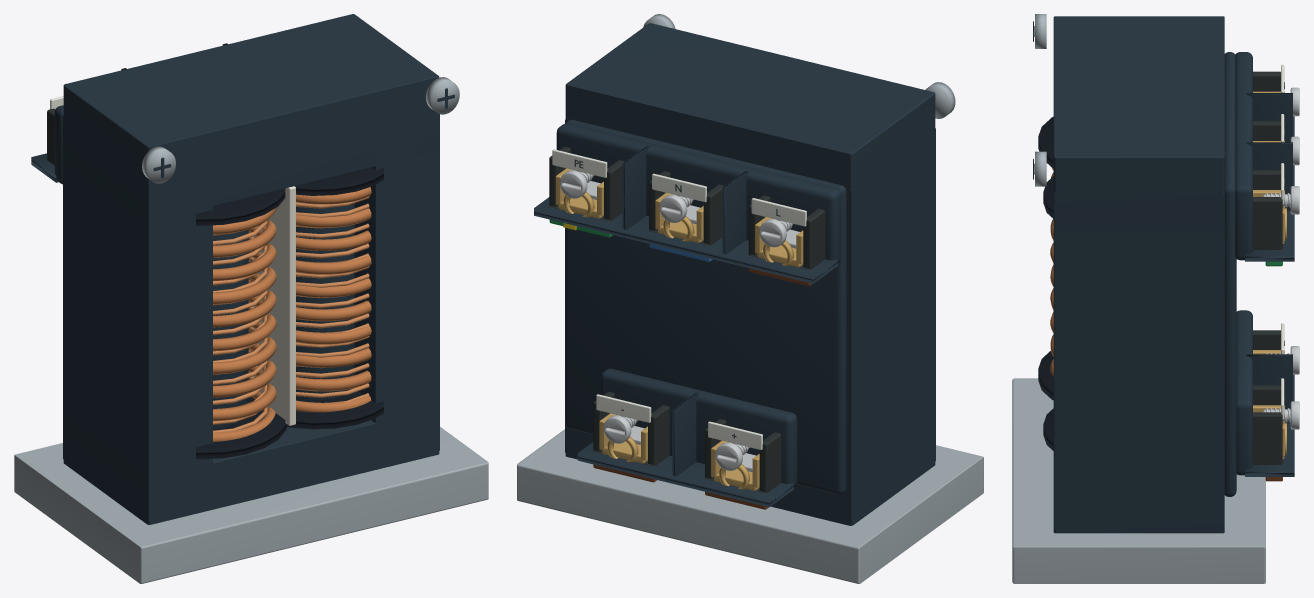
File: transformer_default.glb
3 renders of one model, left to right at view 1: azimuth 30°, elevation 25°; view 2: azimuth 150°, elevation 25°; view 3: azimuth 270°, elevation 25°, orthographic.
Visible parts, largest first — view 1: part:body · Original a463fd81, part:body · Original 2a8198d3, part:winding.001, part:winding, detail:converter-specific-core · Detail oxygen-free copper, Primary secondary barrier, part:winding · Original 3ff2d46d, part:winding.001 · Original 3ff2d46d, part:mounting · Original 2a8198d3, part:terminals · Original a463fd81; view 2: part:terminals · Original a463fd81, part:body · Original a463fd81, part:body · Original 2a8198d3, detail:terminal-clamp:L · Detail moulded engineering polymer, detail:terminal-clamp:- · Detail moulded engineering polymer, detail:terminal-clamp:+ · Detail moulded engineering polymer, detail:terminal-clamp:N · Detail moulded engineering polymer, detail:terminal-clamp:PE · Detail moulded engineering polyme, detail:terminal-clamp:+ · Detail machined brass, detail:terminal-clamp:L · Detail machined brass, detail:terminal-clamp:N · Detail machined brass, detail:terminal-clamp:- · Detail machined brass (+12 smaller); view 3: part:body · Original a463fd81, part:body · Original 2a8198d3, part:terminals · Original a463fd81, detail:terminal-clamp:- · Detail moulded engineering polymer, detail:terminal-clamp:PE · Detail moulded engineering polyme, part:winding · Original 3ff2d46d, part:mounting · Original 2a8198d3, part:winding.001 · Original 3ff2d46d, detail:terminal-clamp:L · Detail moulded engineering polymer, detail:terminal-clamp:+ · Detail moulded engineering polymer, detail:terminal-clamp:N · Detail moulded engineering polymer, part:winding (+2 smaller).
Boxes of the visible parts, left/top/right/bottom form: part:body · Original a463fd81: left=63, top=14, right=439, bottom=524; part:body · Original 2a8198d3: left=14, top=427, right=488, bottom=583; part:winding.001: left=248, top=187, right=371, bottom=412; part:winding: left=213, top=207, right=276, bottom=441; detail:converter-specific-core · Detail oxygen-free copper: left=213, top=196, right=369, bottom=432; Primary secondary barrier: left=253, top=186, right=295, bottom=425; part:winding · Original 3ff2d46d: left=196, top=188, right=286, bottom=459; part:winding.001 · Original 3ff2d46d: left=287, top=167, right=383, bottom=429; part:mounting · Original 2a8198d3: left=142, top=77, right=459, bottom=183; part:terminals · Original a463fd81: left=31, top=43, right=251, bottom=332; part:terminals · Original a463fd81: left=534, top=119, right=846, bottom=507; part:body · Original a463fd81: left=565, top=23, right=935, bottom=525; part:body · Original 2a8198d3: left=517, top=429, right=983, bottom=583; detail:terminal-clamp:L · Detail moulded engineering polymer: left=748, top=195, right=825, bottom=269; detail:terminal-clamp:- · Detail moulded engineering polymer: left=593, top=391, right=669, bottom=466; detail:terminal-clamp:+ · Detail moulded engineering polymer: left=705, top=419, right=781, bottom=493; detail:terminal-clamp:N · Detail moulded engineering polymer: left=649, top=171, right=723, bottom=245; detail:terminal-clamp:PE · Detail moulded engineering polyme: left=549, top=146, right=624, bottom=221; detail:terminal-clamp:+ · Detail machined brass: left=711, top=440, right=759, bottom=490; detail:terminal-clamp:L · Detail machined brass: left=755, top=217, right=803, bottom=267; detail:terminal-clamp:N · Detail machined brass: left=655, top=192, right=703, bottom=242; detail:terminal-clamp:- · Detail machined brass: left=599, top=413, right=647, bottom=463; part:body · Original a463fd81: left=1053, top=16, right=1224, bottom=533; part:body · Original 2a8198d3: left=1012, top=378, right=1265, bottom=583; part:terminals · Original a463fd81: left=1224, top=52, right=1294, bottom=496; detail:terminal-clamp:- · Detail moulded engineering polymer: left=1253, top=385, right=1283, bottom=464; detail:terminal-clamp:PE · Detail moulded engineering polyme: left=1253, top=170, right=1283, bottom=249; part:winding · Original 3ff2d46d: left=1038, top=116, right=1053, bottom=400; part:mounting · Original 2a8198d3: left=1035, top=14, right=1046, bottom=186; part:winding.001 · Original 3ff2d46d: left=1043, top=176, right=1053, bottom=450; detail:terminal-clamp:L · Detail moulded engineering polymer: left=1253, top=71, right=1280, bottom=91; detail:terminal-clamp:+ · Detail moulded engineering polymer: left=1253, top=330, right=1280, bottom=349; detail:terminal-clamp:N · Detail moulded engineering polymer: left=1253, top=121, right=1280, bottom=140; part:winding: left=1050, top=167, right=1053, bottom=376.
Size of the model in its own units: 0.7277 by 0.8379 by 0.522.
